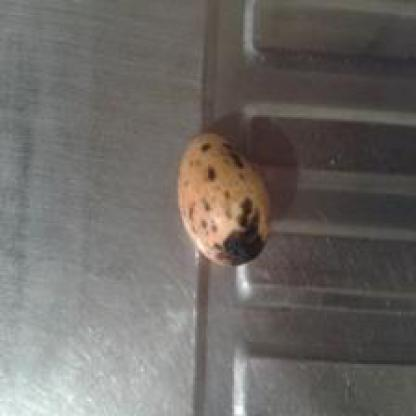mango_rotten: (174, 130, 272, 268)
